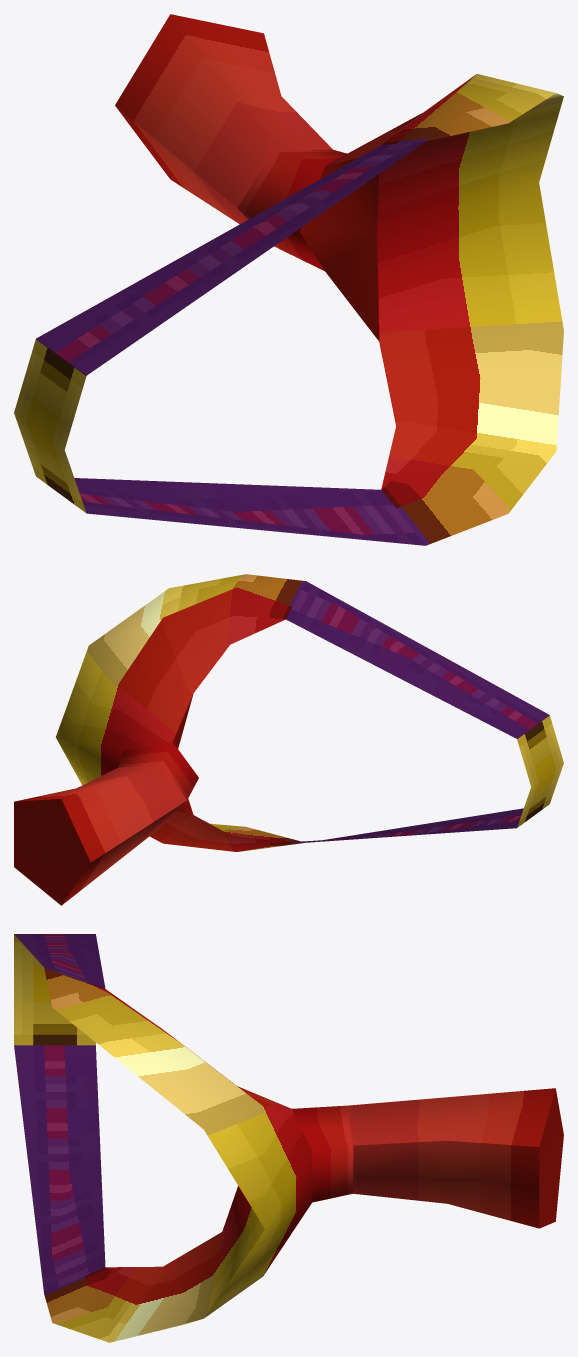
The model's file is g_sling.obj.
3 views of the same model, one above another, from view 1: azimuth 30°, elevation 25°; view 2: azimuth 150°, elevation 25°; view 3: azimuth 270°, elevation 25° (orthographic). The views are drawn at different scales.
Parts seen in each view (by area): view 1: vsn_mesh_0__mesh_0_.012; view 2: vsn_mesh_0__mesh_0_.012; view 3: vsn_mesh_0__mesh_0_.012.
Part boxes in pixels (x1=…): vsn_mesh_0__mesh_0_.012: x1=14, y1=14, x2=563, y2=545; vsn_mesh_0__mesh_0_.012: x1=14, y1=574, x2=563, y2=905; vsn_mesh_0__mesh_0_.012: x1=14, y1=934, x2=563, y2=1342.
Size of the model in its own units: 14.27 by 8.85 by 13.36.
1 material, 1 textured.
